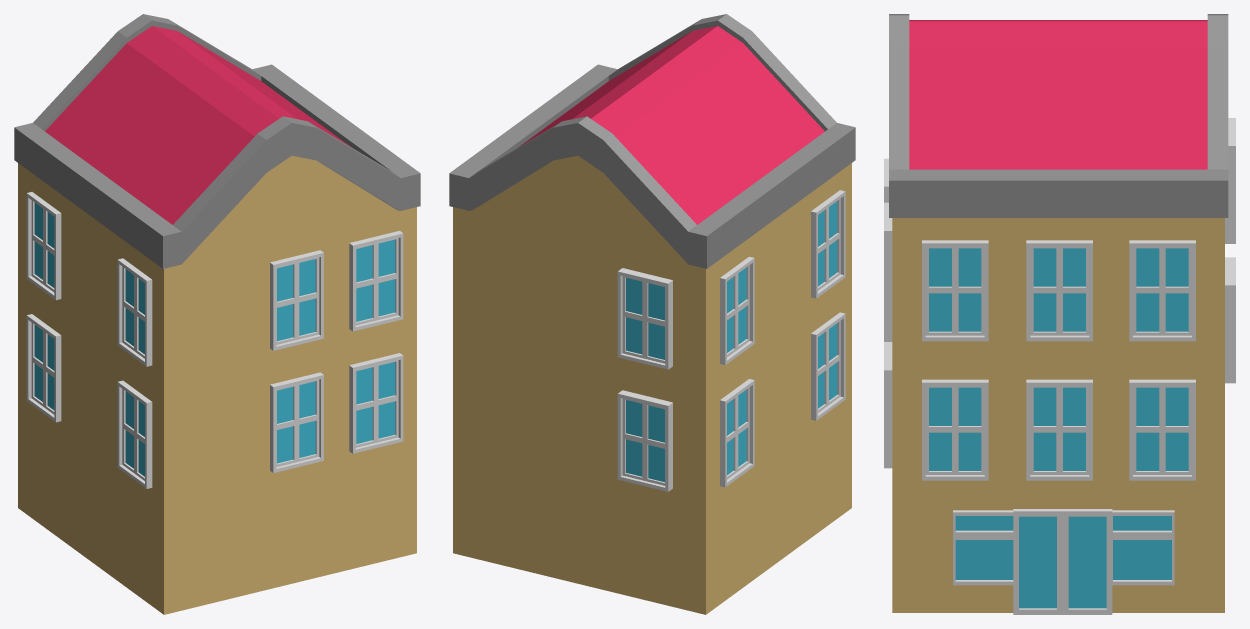
File: building3.fbx
The picture shows the model from 3 angles, left to right: view 1: azimuth 30°, elevation 25°; view 2: azimuth 150°, elevation 25°; view 3: azimuth 270°, elevation 25°; orthographic projection. The views are drawn at different scales.
Parts seen in each view (by area): view 1: Plane.004; view 2: Plane.004; view 3: Plane.004.
Part boxes in pixels (bbox=[...]): Plane.004: bbox=[14, 14, 420, 614]; Plane.004: bbox=[449, 14, 855, 614]; Plane.004: bbox=[884, 14, 1235, 614].
Bounding box in the file's own units: 1042 × 1748 × 1057.
